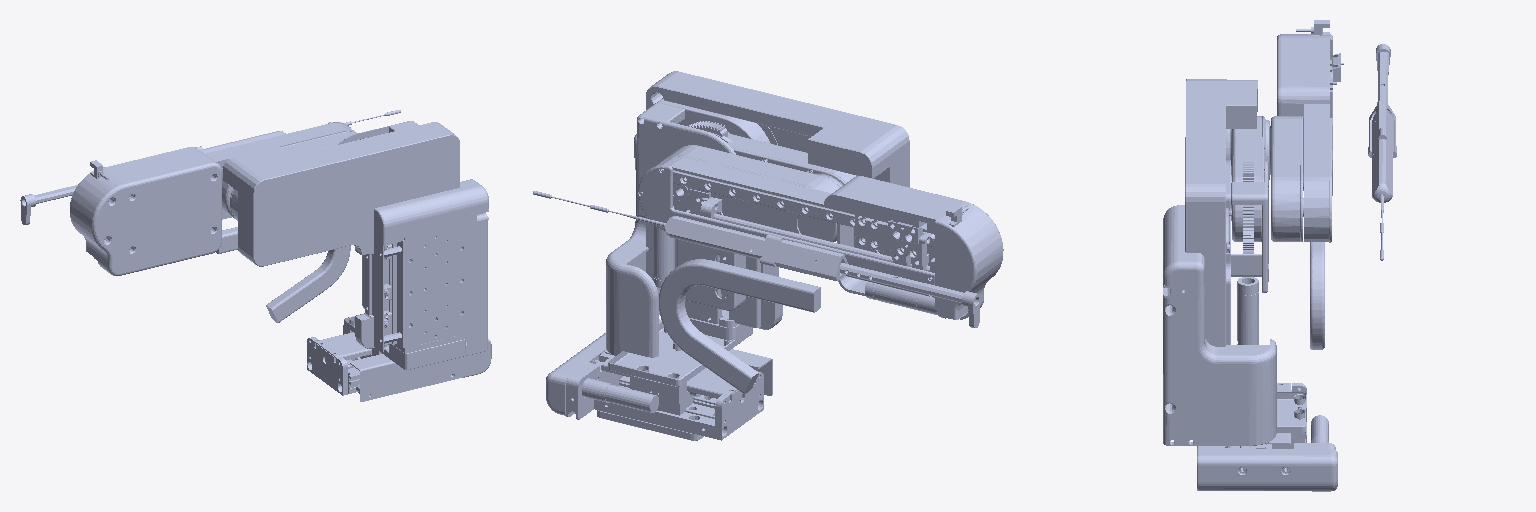
robot.urdf — SwabRobot11:
<?xml version="1.0" encoding="utf-8"?>
<!-- This URDF was automatically created by SolidWorks to URDF Exporter! Originally created by [author] ([email redacted]) 
     Commit Version: 1.6.0-4-g7f85cfe  Build Version: 1.6.7995.38578
     For more information, please see http://wiki.ros.org/sw_urdf_exporter -->
<robot
  name="SwabRobot11">
  <link
    name="base_link">
    <inertial>
      <origin
        xyz="0.0968176589083041 0.0345710493500714 0.183308895357372"
        rpy="0 0 0" />
      <mass
        value="6.61162811752273" />
      <inertia
        ixx="0.0483844207028147"
        ixy="0.000296006250762765"
        ixz="-0.00132632833597604"
        iyy="0.0477902476759924"
        iyz="-0.000130688055619147"
        izz="0.0281567183588333" />
    </inertial>
    <visual>
      <origin
        xyz="0 0 0"
        rpy="0 0 0" />
      <geometry>
        <mesh
          filename="package://meshes/base_link.STL" />
      </geometry>
      <material
        name="">
        <color
          rgba="0.752941176470588 0.752941176470588 0.752941176470588 1" />
      </material>
    </visual>
    <collision>
      <origin
        xyz="0 0 0"
        rpy="0 0 0" />
      <geometry>
        <mesh
          filename="package://meshes/base_link.STL" />
      </geometry>
    </collision>
  </link>
  <link
    name="Joint1">
    <inertial>
      <origin
        xyz="-0.0099349974196995 -0.0410658841612853 0.0137701493809181"
        rpy="0 0 0" />
      <mass
        value="0.183975129254073" />
      <inertia
        ixx="6.11634960461434E-05"
        ixy="-9.41957099804007E-07"
        ixz="-5.5172802260012E-08"
        iyy="7.82431907586166E-05"
        iyz="-1.61469619353E-08"
        izz="0.000128257739549655" />
    </inertial>
    <visual>
      <origin
        xyz="0 0 0"
        rpy="0 0 0" />
      <geometry>
        <mesh
          filename="package://meshes/Joint1.STL" />
      </geometry>
      <material
        name="">
        <color
          rgba="0.792156862745098 0.819607843137255 0.933333333333333 1" />
      </material>
    </visual>
    <collision>
      <origin
        xyz="0 0 0"
        rpy="0 0 0" />
      <geometry>
        <mesh
          filename="package://meshes/Joint1.STL" />
      </geometry>
    </collision>
  </link>
  <joint
    name="Joint1"
    type="prismatic">
    <origin
      xyz="0.077694 -0.05094 0.20666"
      rpy="0 0 0" />
    <parent
      link="base_link" />
    <child
      link="Joint1" />
    <axis
      xyz="0.008325 -0.99997 0" />
    <limit
      lower="0"
      upper="0"
      effort="0"
      velocity="0" />
  </joint>
  <link
    name="Joint2">
    <inertial>
      <origin
        xyz="0.0151011497032047 -0.0508976766362876 0.0555926475331236"
        rpy="0 0 0" />
      <mass
        value="0.252289173109763" />
      <inertia
        ixx="0.000207095794287294"
        ixy="7.26793296859683E-06"
        ixz="-2.61998486471563E-06"
        iyy="0.000179448844288371"
        iyz="2.11475832001843E-05"
        izz="0.000165638018076726" />
    </inertial>
    <visual>
      <origin
        xyz="0 0 0"
        rpy="0 0 0" />
      <geometry>
        <mesh
          filename="package://meshes/Joint2.STL" />
      </geometry>
      <material
        name="">
        <color
          rgba="0.792156862745098 0.819607843137255 0.933333333333333 1" />
      </material>
    </visual>
    <collision>
      <origin
        xyz="0 0 0"
        rpy="0 0 0" />
      <geometry>
        <mesh
          filename="package://meshes/Joint2.STL" />
      </geometry>
    </collision>
  </link>
  <joint
    name="Joint2"
    type="prismatic">
    <origin
      xyz="-0.020105 -0.040698 0.0395"
      rpy="0 0 0" />
    <parent
      link="Joint1" />
    <child
      link="Joint2" />
    <axis
      xyz="1 -0.0024853 0" />
    <limit
      lower="0"
      upper="0"
      effort="0"
      velocity="0" />
  </joint>
  <link
    name="Joint3">
    <inertial>
      <origin
        xyz="-0.0606476187602158 0.0111221721297143 0.0643738848749657"
        rpy="0 0 0" />
      <mass
        value="0.478396079456064" />
      <inertia
        ixx="0.00106799997739359"
        ixy="9.79131884255182E-05"
        ixz="0.000594073220718054"
        iyy="0.00285265485495339"
        iyz="-6.46452549747942E-05"
        izz="0.00188491345197811" />
    </inertial>
    <visual>
      <origin
        xyz="0 0 0"
        rpy="0 0 0" />
      <geometry>
        <mesh
          filename="package://meshes/Joint3.STL" />
      </geometry>
      <material
        name="">
        <color
          rgba="0.792156862745098 0.819607843137255 0.933333333333333 1" />
      </material>
    </visual>
    <collision>
      <origin
        xyz="0 0 0"
        rpy="0 0 0" />
      <geometry>
        <mesh
          filename="package://meshes/Joint3.STL" />
      </geometry>
    </collision>
  </link>
  <joint
    name="Joint3"
    type="prismatic">
    <origin
      xyz="0.00891666588980557 -0.054650996070039 0.0727000000004376"
      rpy="0 0 0" />
    <parent
      link="Joint2" />
    <child
      link="Joint3" />
    <axis
      xyz="0 0 1" />
    <limit
      lower="0"
      upper="0"
      effort="0"
      velocity="0" />
  </joint>
  <link
    name="Joint4">
    <inertial>
      <origin
        xyz="-0.0454889312874017 0.0023107459864746 7.40483637893391E-05"
        rpy="0 0 0" />
      <mass
        value="0.0602616656064091" />
      <inertia
        ixx="2.11671062531266E-05"
        ixy="-3.0112801892384E-06"
        ixz="1.20338357057144E-08"
        iyy="0.000133118561192478"
        iyz="-5.23056975172297E-09"
        izz="0.000116068498513311" />
    </inertial>
    <visual>
      <origin
        xyz="0 0 0"
        rpy="0 0 0" />
      <geometry>
        <mesh
          filename="package://meshes/Joint4.STL" />
      </geometry>
      <material
        name="">
        <color
          rgba="0.792156862745098 0.819607843137255 0.933333333333333 1" />
      </material>
    </visual>
    <collision>
      <origin
        xyz="0 0 0"
        rpy="0 0 0" />
      <geometry>
        <mesh
          filename="package://meshes/Joint4.STL" />
      </geometry>
    </collision>
  </link>
  <joint
    name="Joint4"
    type="revolute">
    <origin
      xyz="-0.0324759554323222 0.0375926311752074 0.0783878712180105"
      rpy="0 0 0" />
    <parent
      link="Joint3" />
    <child
      link="Joint4" />
    <axis
      xyz="0.00248525347320226 0.999996911752818 0" />
    <limit
      lower="0"
      upper="0"
      effort="0"
      velocity="0" />
  </joint>
  <link
    name="Joint5">
    <inertial>
      <origin
        xyz="0.0470055885486295 0.0133556776411927 2.53761151773058E-05"
        rpy="0 0 0" />
      <mass
        value="0.0523713555158517" />
      <inertia
        ixx="1.59909762013043E-05"
        ixy="-1.56943084678154E-06"
        ixz="-4.93801790216017E-09"
        iyy="0.000117917985962793"
        iyz="-6.47943809257662E-09"
        izz="0.000105596016258511" />
    </inertial>
    <visual>
      <origin
        xyz="0 0 0"
        rpy="0 0 0" />
      <geometry>
        <mesh
          filename="package://meshes/Joint5.STL" />
      </geometry>
      <material
        name="">
        <color
          rgba="0.792156862745098 0.819607843137255 0.933333333333333 1" />
      </material>
    </visual>
    <collision>
      <origin
        xyz="0 0 0"
        rpy="0 0 0" />
      <geometry>
        <mesh
          filename="package://meshes/Joint5.STL" />
      </geometry>
    </collision>
  </link>
  <joint
    name="Joint5"
    type="revolute">
    <origin
      xyz="-0.0999549566127642 0.0182484697588711 0"
      rpy="0 0 0" />
    <parent
      link="Joint4" />
    <child
      link="Joint5" />
    <axis
      xyz="0.00248525347320317 0.999996911752818 0" />
    <limit
      lower="0"
      upper="0"
      effort="0"
      velocity="0" />
  </joint>
  <link
    name="Joint6">
    <inertial>
      <origin
        xyz="-0.124120040778141 -0.0146548367106605 -0.0129822895778356"
        rpy="0 0 0" />
      <mass
        value="0.218332214003892" />
      <inertia
        ixx="0.000125035852379856"
        ixy="2.23323338506495E-06"
        ixz="6.70389430541446E-06"
        iyy="0.000639302632999629"
        iyz="-8.48563961371802E-06"
        izz="0.000539295638199819" />
    </inertial>
    <visual>
      <origin
        xyz="0 0 0"
        rpy="0 0 0" />
      <geometry>
        <mesh
          filename="package://meshes/Joint6.STL" />
      </geometry>
      <material
        name="">
        <color
          rgba="0.792156862745098 0.819607843137255 0.933333333333333 1" />
      </material>
    </visual>
    <collision>
      <origin
        xyz="0 0 0"
        rpy="0 0 0" />
      <geometry>
        <mesh
          filename="package://meshes/Joint6.STL" />
      </geometry>
    </collision>
  </link>
  <joint
    name="Joint6"
    type="revolute">
    <origin
      xyz="0.10011527593004 0.0462513309983141 0"
      rpy="0 0 0" />
    <parent
      link="Joint5" />
    <child
      link="Joint6" />
    <axis
      xyz="0 1 0" />
    <limit
      lower="0"
      upper="0"
      effort="0"
      velocity="0" />
  </joint>
  <link
    name="Joint7">
    <inertial>
      <origin
        xyz="-0.0785249183993673 -0.00352287034951001 -0.00870893344445417"
        rpy="0 0 0" />
      <mass
        value="0.205010272203353" />
      <inertia
        ixx="0.000116793368623759"
        ixy="-2.40551214519992E-07"
        ixz="-7.93878111100468E-07"
        iyy="0.000118765845662832"
        iyz="-6.6490837319364E-08"
        izz="0.000117646305188087" />
    </inertial>
    <visual>
      <origin
        xyz="0 0 0"
        rpy="0 0 0" />
      <geometry>
        <mesh
          filename="package://meshes/Joint7.STL" />
      </geometry>
      <material
        name="">
        <color
          rgba="0.752941176470588 0.752941176470588 0.752941176470588 1" />
      </material>
    </visual>
    <collision>
      <origin
        xyz="0 0 0"
        rpy="0 0 0" />
      <geometry>
        <mesh
          filename="package://meshes/Joint7.STL" />
      </geometry>
    </collision>
  </link>
  <joint
    name="Joint7"
    type="prismatic">
    <origin
      xyz="-0.0911614695645527 0.0387266285488616 0"
      rpy="0 0 0" />
    <parent
      link="Joint6" />
    <child
      link="Joint7" />
    <axis
      xyz="-0.999997683815508 0.00186393866590117 0.00107614881383135" />
    <limit
      lower="0"
      upper="0"
      effort="0"
      velocity="0" />
  </joint>
  <link
    name="EndEffect">
    <inertial>
      <origin
        xyz="-0.0342439924929369 8.51551896176514E-05 -0.000403019602988469"
        rpy="0 0 0" />
      <mass
        value="0.0245532398138027" />
      <inertia
        ixx="8.24001377124775E-07"
        ixy="1.26705698102434E-07"
        ixz="-1.64521169612891E-07"
        iyy="5.18066708511034E-05"
        iyz="4.08597332457622E-10"
        izz="5.18159724222484E-05" />
    </inertial>
    <visual>
      <origin
        xyz="0 0 0"
        rpy="0 0 0" />
      <geometry>
        <mesh
          filename="package://meshes/EndEffect.STL" />
      </geometry>
      <material
        name="">
        <color
          rgba="0.792156862745098 0.819607843137255 0.933333333333333 1" />
      </material>
    </visual>
    <collision>
      <origin
        xyz="0 0 0"
        rpy="0 0 0" />
      <geometry>
        <mesh
          filename="package://meshes/EndEffect.STL" />
      </geometry>
    </collision>
  </link>
  <joint
    name="EndEffect"
    type="revolute">
    <origin
      xyz="0 0 0"
      rpy="0 0 0" />
    <parent
      link="Joint7" />
    <child
      link="EndEffect" />
    <axis
      xyz="-0.999997683815508 0.00186393866590117 0.00107614881383135" />
    <limit
      lower="0"
      upper="0"
      effort="0"
      velocity="0" />
  </joint>
</robot>

--- Render facts (derived) ---
3 views of the same robot in one strip: view 1: azimuth 30°, elevation 25°; view 2: azimuth 150°, elevation 25°; view 3: azimuth 270°, elevation 25° (orthographic).
Model SwabRobot11 with 9 links and 8 joints (4 revolute, 4 prismatic), rooted at base_link, posed every joint at zero.
Visible links, largest first — view 1: Joint3, Joint6, Joint2, Joint1, EndEffect, Joint5; view 2: Joint6, Joint3, Joint1, Joint2, EndEffect, Joint5, Joint4; view 3: Joint2, Joint3, Joint6, Joint1, Joint5, Joint4, EndEffect.
Boxes of the visible links, box(x1,y1,x2,y2) form: Joint3: box(223, 121, 459, 348); Joint6: box(70, 122, 357, 322); Joint2: box(344, 179, 488, 369); Joint1: box(307, 325, 491, 401); EndEffect: box(20, 110, 400, 224); Joint5: box(222, 131, 356, 218); Joint6: box(638, 156, 1003, 393); Joint3: box(637, 71, 909, 329); Joint1: box(546, 333, 772, 440); Joint2: box(606, 134, 778, 386); EndEffect: box(533, 191, 980, 327); Joint5: box(663, 145, 839, 241); Joint4: box(688, 121, 855, 186); Joint2: box(1163, 205, 1306, 445); Joint3: box(1185, 79, 1268, 346); Joint6: box(1277, 20, 1343, 349); Joint1: box(1197, 383, 1337, 491); Joint5: box(1270, 116, 1303, 241); Joint4: box(1226, 116, 1269, 253); EndEffect: box(1368, 44, 1396, 260).
Bounding box of the posed robot: 0.3756 × 0.1732 × 0.2398 m (x, y, z).
Meshes: 9 distinct files referenced, 7 mesh visuals loaded (7 binary STL); not drawn: 2 (reference not matched to a file when rendering).
